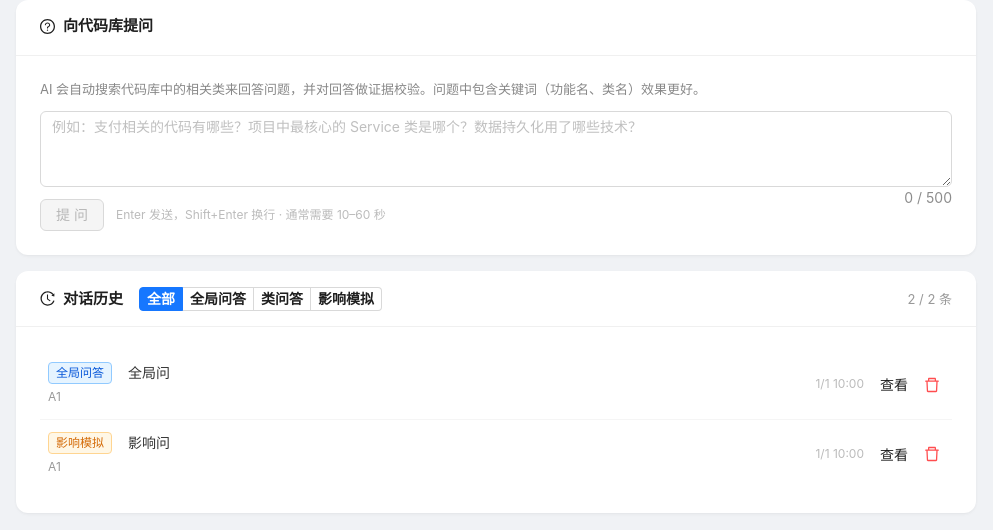
Test: ProjectInsights › historyFilter_whenSwitched_shouldFilterByScopeAndShowCount
Expected: the number of elements with class "history-item" is 2, [40, 350, 952, 420]; [40, 420, 952, 489]
Click the radio button labelled "全局问答" at coordinates (218, 299), box [183, 287, 254, 311]
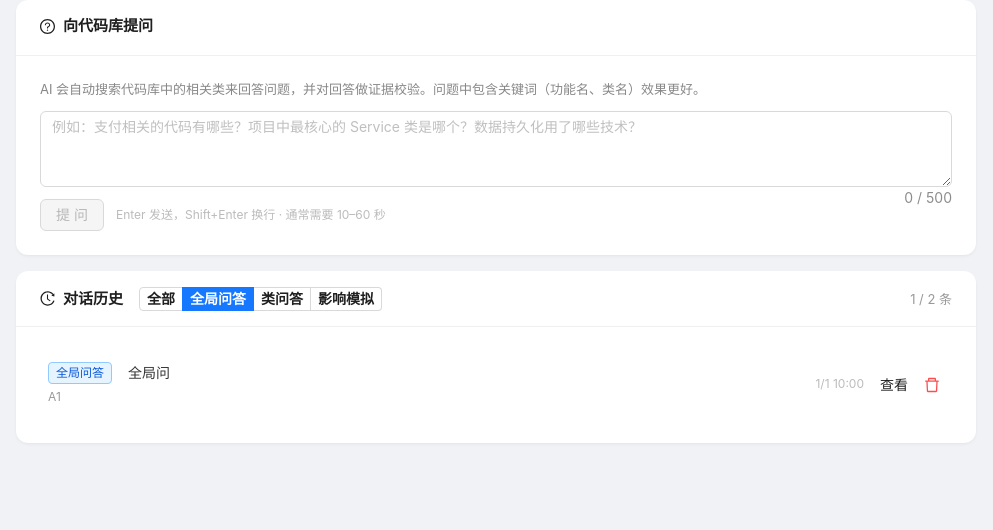
Now the number of elements with class "history-item" is 1, box [40, 350, 952, 419]
Now the text with class "history-count" reads "1 / 2 条", box [910, 291, 952, 307]
Click the radio button labelled "影响模拟" at coordinates (346, 299), box [311, 287, 382, 311]
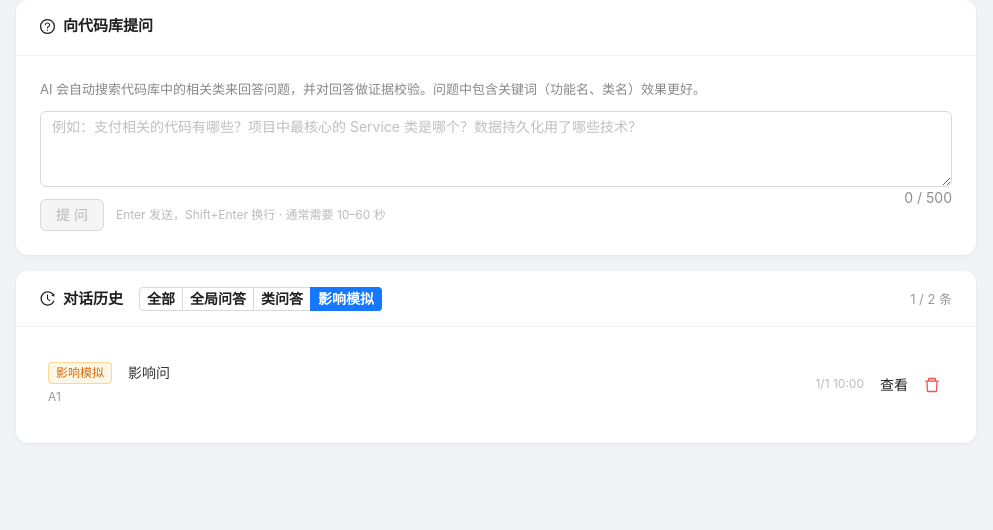
Now the element with class "history-item" shows "影响问", box [128, 364, 170, 381]
Click the radio button labelled "全部" at coordinates (161, 299), box [139, 287, 183, 311]
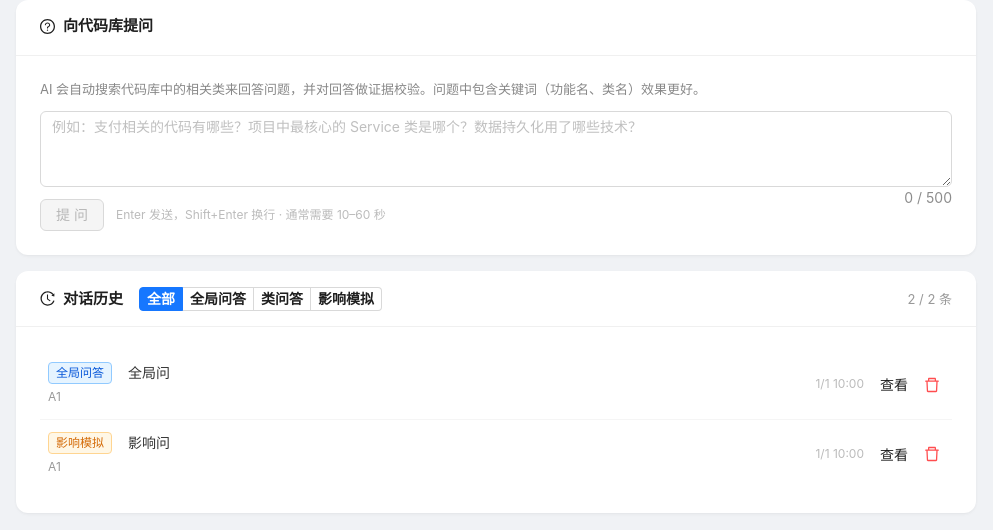
Now the number of elements with class "history-item" is 2, box [40, 350, 952, 420]; [40, 420, 952, 489]
